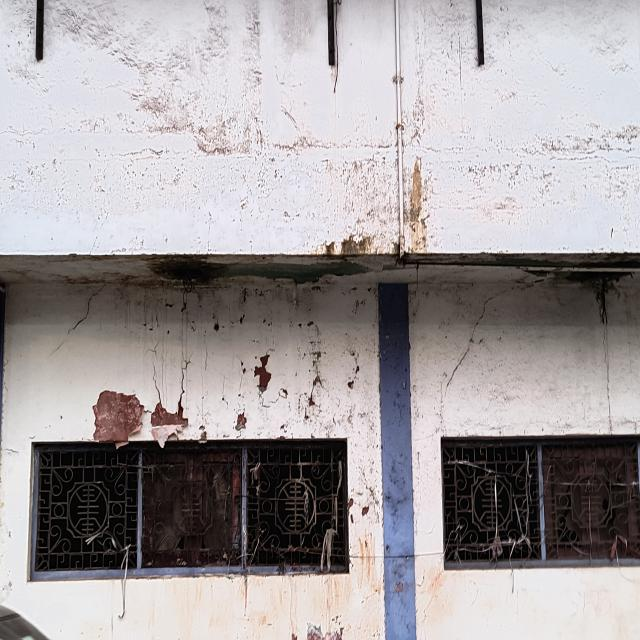Paint Peeling: (93, 390, 144, 444), (151, 399, 188, 427), (254, 354, 271, 394)
